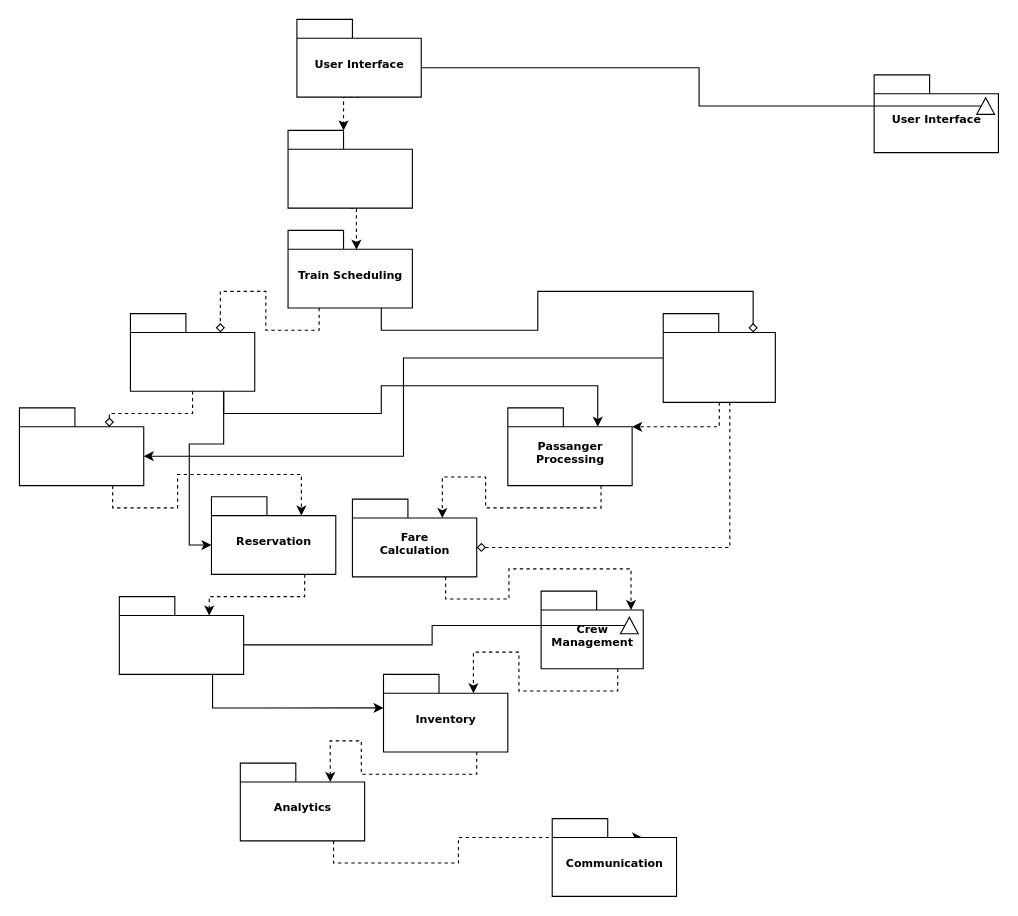
Some shapes in this 1018 by 916 pixel diagram are drawn without their labels. Each missing label, with the centre of its shape:
"Authentication" goes at (x=349, y=168).
"Passanger Management" goes at (x=81, y=446).
"Ticketing" goes at (x=192, y=351).
"Train Information" goes at (x=718, y=357).
"Train Maintenance" goes at (x=181, y=635).
